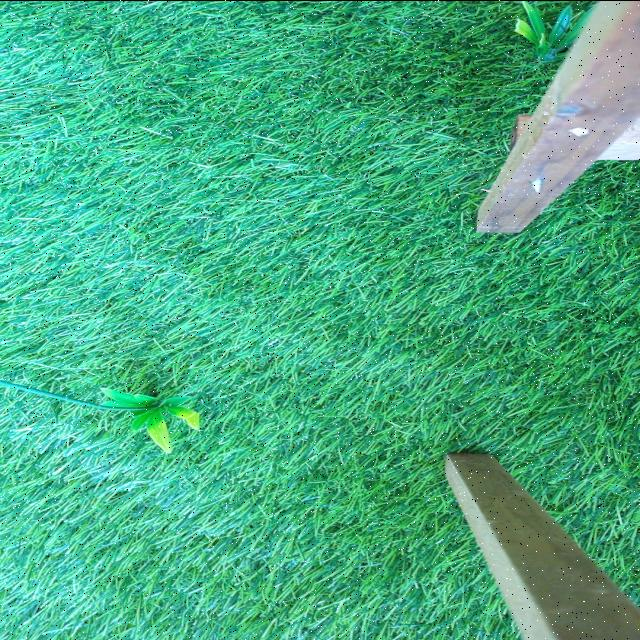base: (98, 384, 200, 449), (514, 3, 594, 59)
